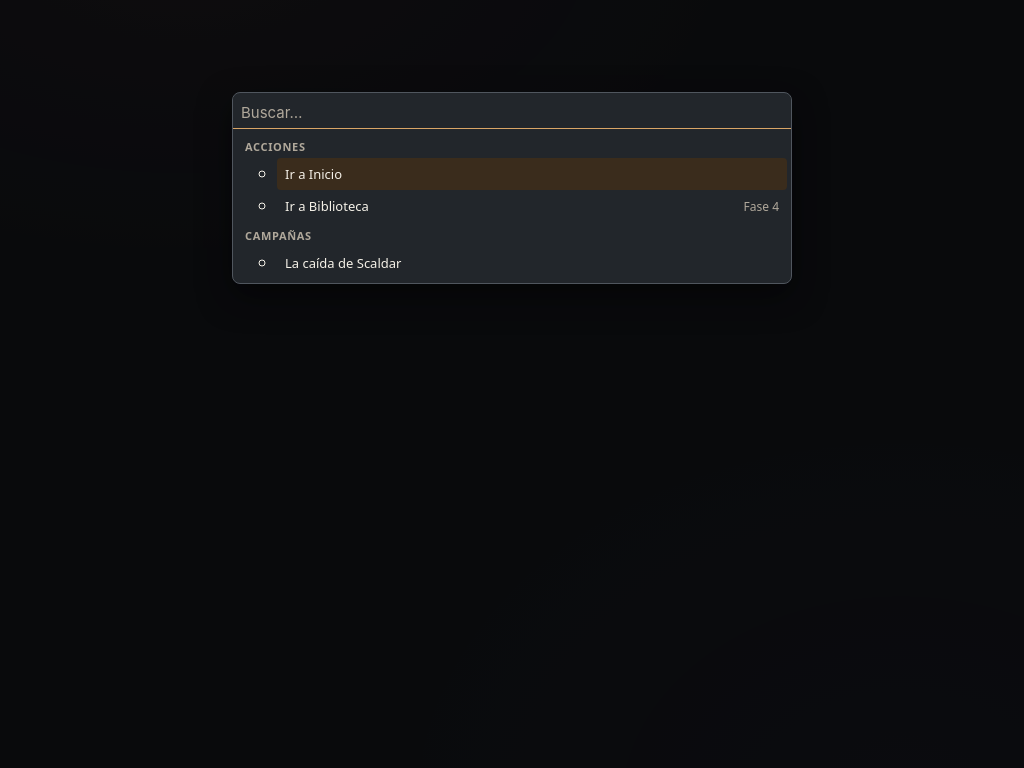
CommandPalette › filtra resultados con la consulta
This screenshot has width=1024, height=768.
Step 1. Type "biblio" into the dropdown → (512, 113), box x1=233 y1=97 x2=791 y2=129
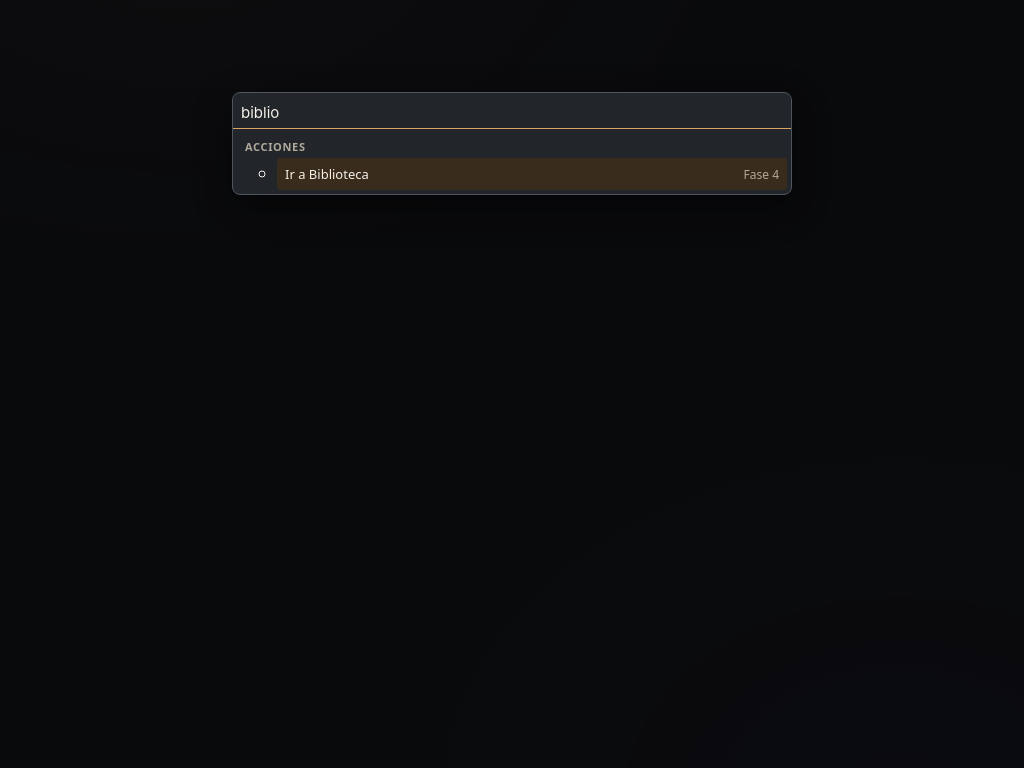
Check: the number of options is 1, box x1=277 y1=158 x2=787 y2=190
